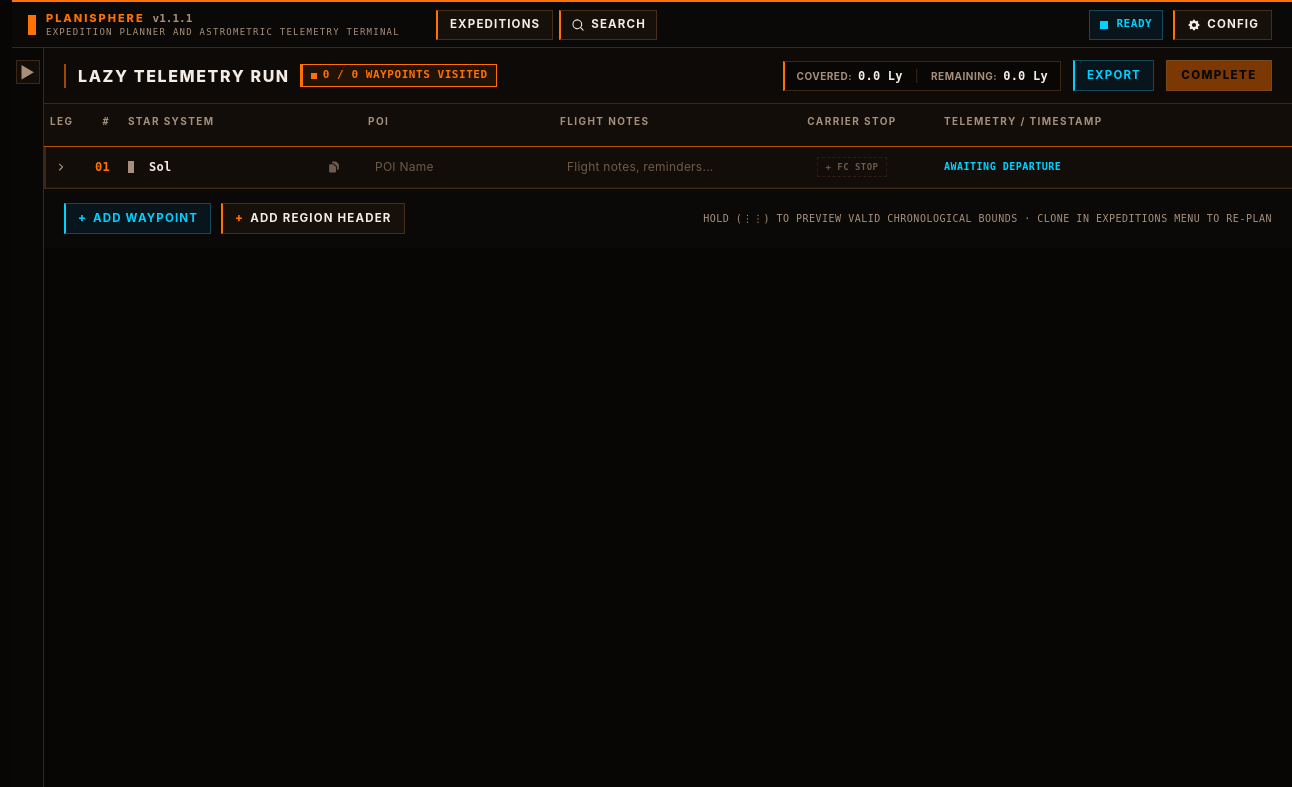
it: App top-level shell orchestration › skips All Time sidebar telemetry while collapsed or in Expedition scope and lazily loads it on clicking All Time
What coordinates should you click on to do the following:
click the button titled "Expand Telemetry Sidebar"
I would click on:
 (28, 72)
Its box is [16,60,40,84].
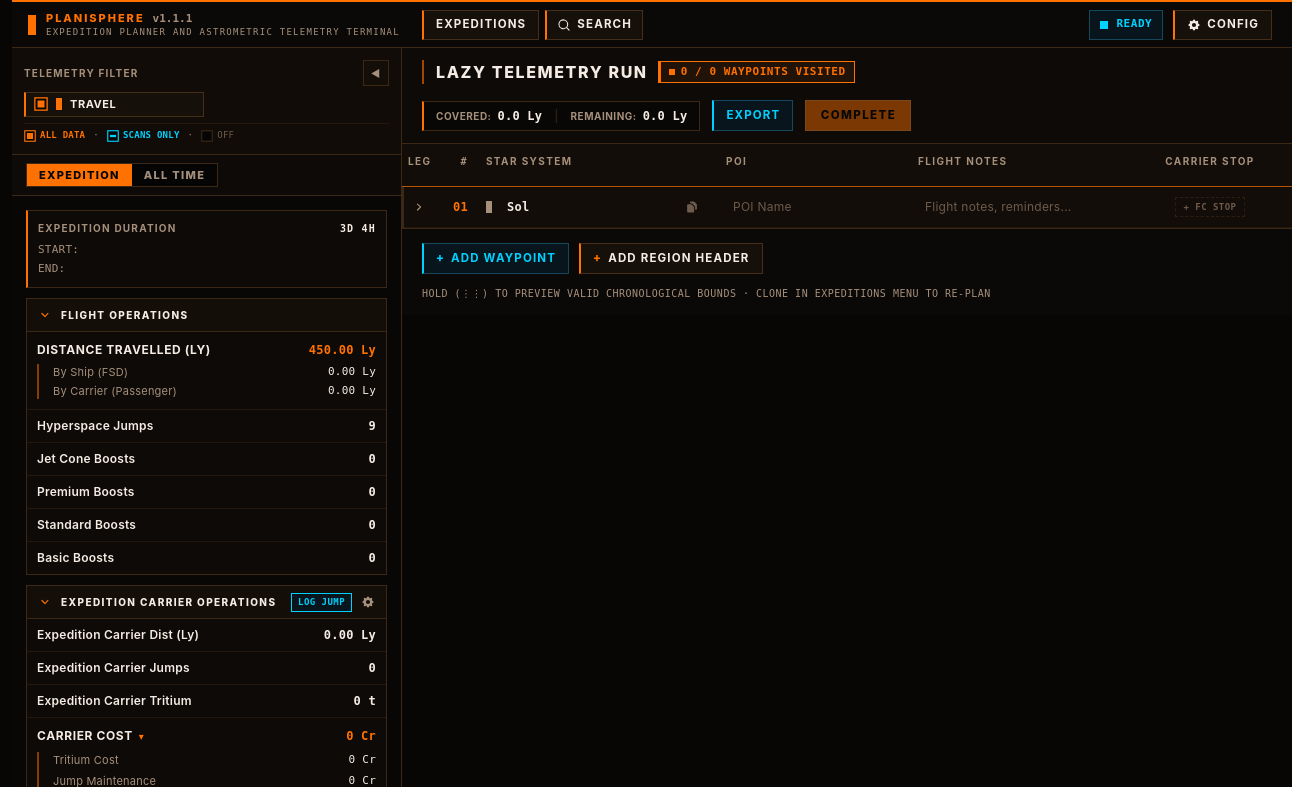
Result: the text "Expedition Duration" is shown at [38,221,176,236]
Result: the text "3d 4h" is shown at [340,221,376,236]
What coordinates should you click on to do the following:
click the button "All Time"
I would click on:
 (175, 175)
Its box is [132,164,217,186].
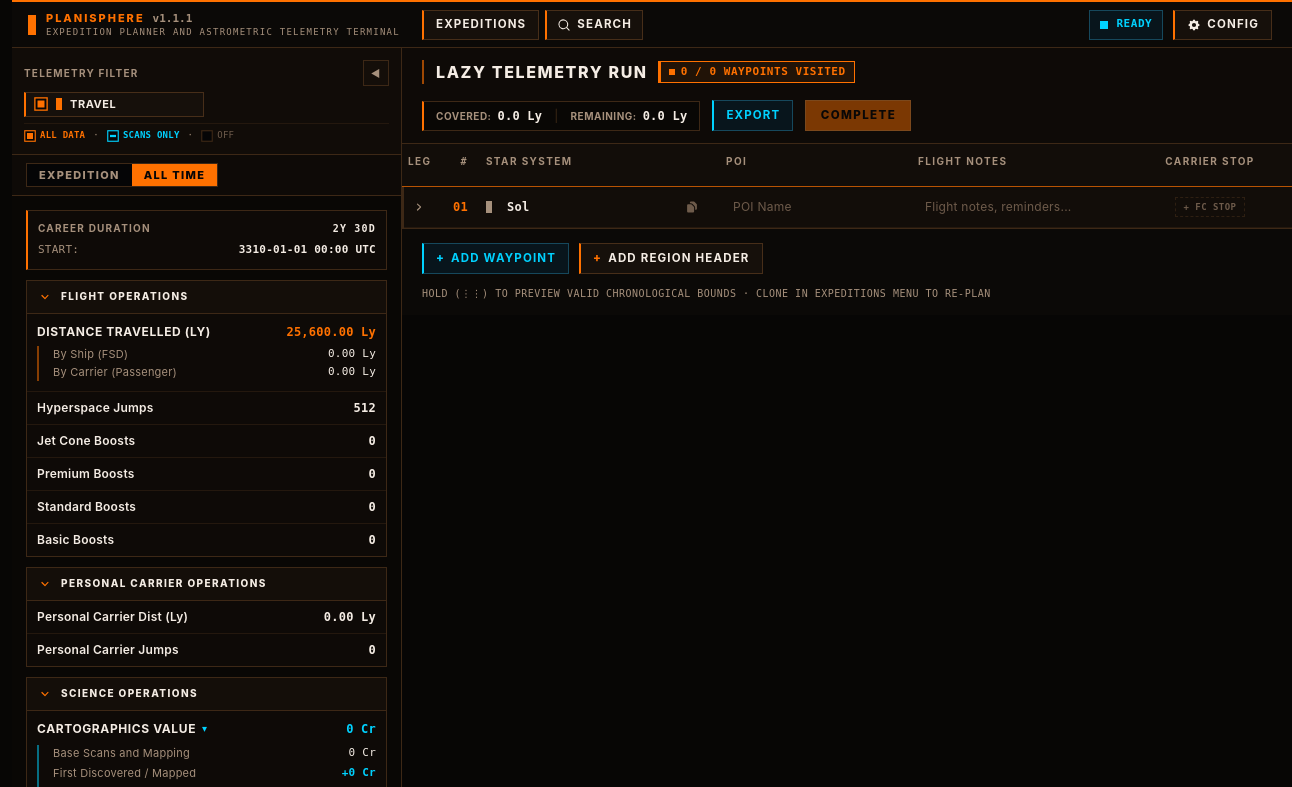
Result: the text "Career Duration" is shown at [38,221,151,236]
Result: the text "2y 30d" is shown at [333,221,376,236]
Result: the text "25,600.0" is shown at [286,325,376,339]
